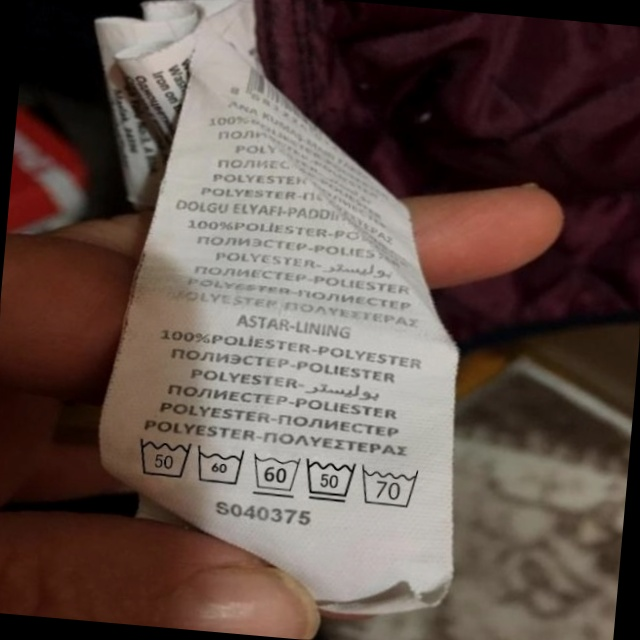50C: (130, 428, 198, 486), (300, 452, 361, 508)
60C: (248, 447, 307, 501), (191, 440, 251, 492)
70C: (358, 460, 427, 513)
